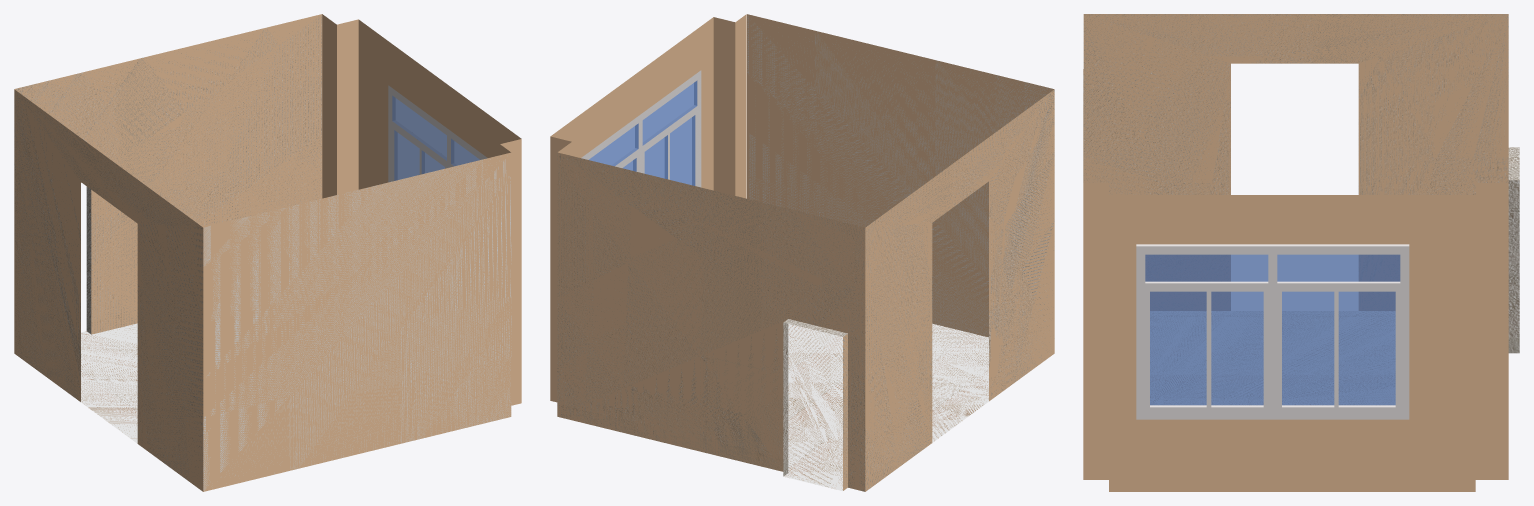
File: DES033.obj
3 renders of one model, left to right at view 1: azimuth 30°, elevation 25°; view 2: azimuth 150°, elevation 25°; view 3: azimuth 270°, elevation 25°, orthographic. The views are drawn at different scales.
Visible parts, largest first — view 1: Mesh13 DES033 Model, Mesh1 v6_1 DES033 Model; view 2: Mesh13 DES033 Model, Mesh1 v6_1 DES033 Model; view 3: Mesh13 DES033 Model, Mesh1 v6_1 DES033 Model.
Boxes of the visible parts, x1=… form: Mesh13 DES033 Model: x1=14, y1=14, x2=521, y2=491; Mesh1 v6_1 DES033 Model: x1=388, y1=85, x2=487, y2=182; Mesh13 DES033 Model: x1=550, y1=14, x2=1054, y2=491; Mesh1 v6_1 DES033 Model: x1=581, y1=70, x2=701, y2=187; Mesh13 DES033 Model: x1=1083, y1=14, x2=1519, y2=491; Mesh1 v6_1 DES033 Model: x1=1136, y1=244, x2=1409, y2=419.
Bounding box in the file's own units: 4.75 × 3.6 × 4.79.
Materials: 7 (2 with a texture image).
